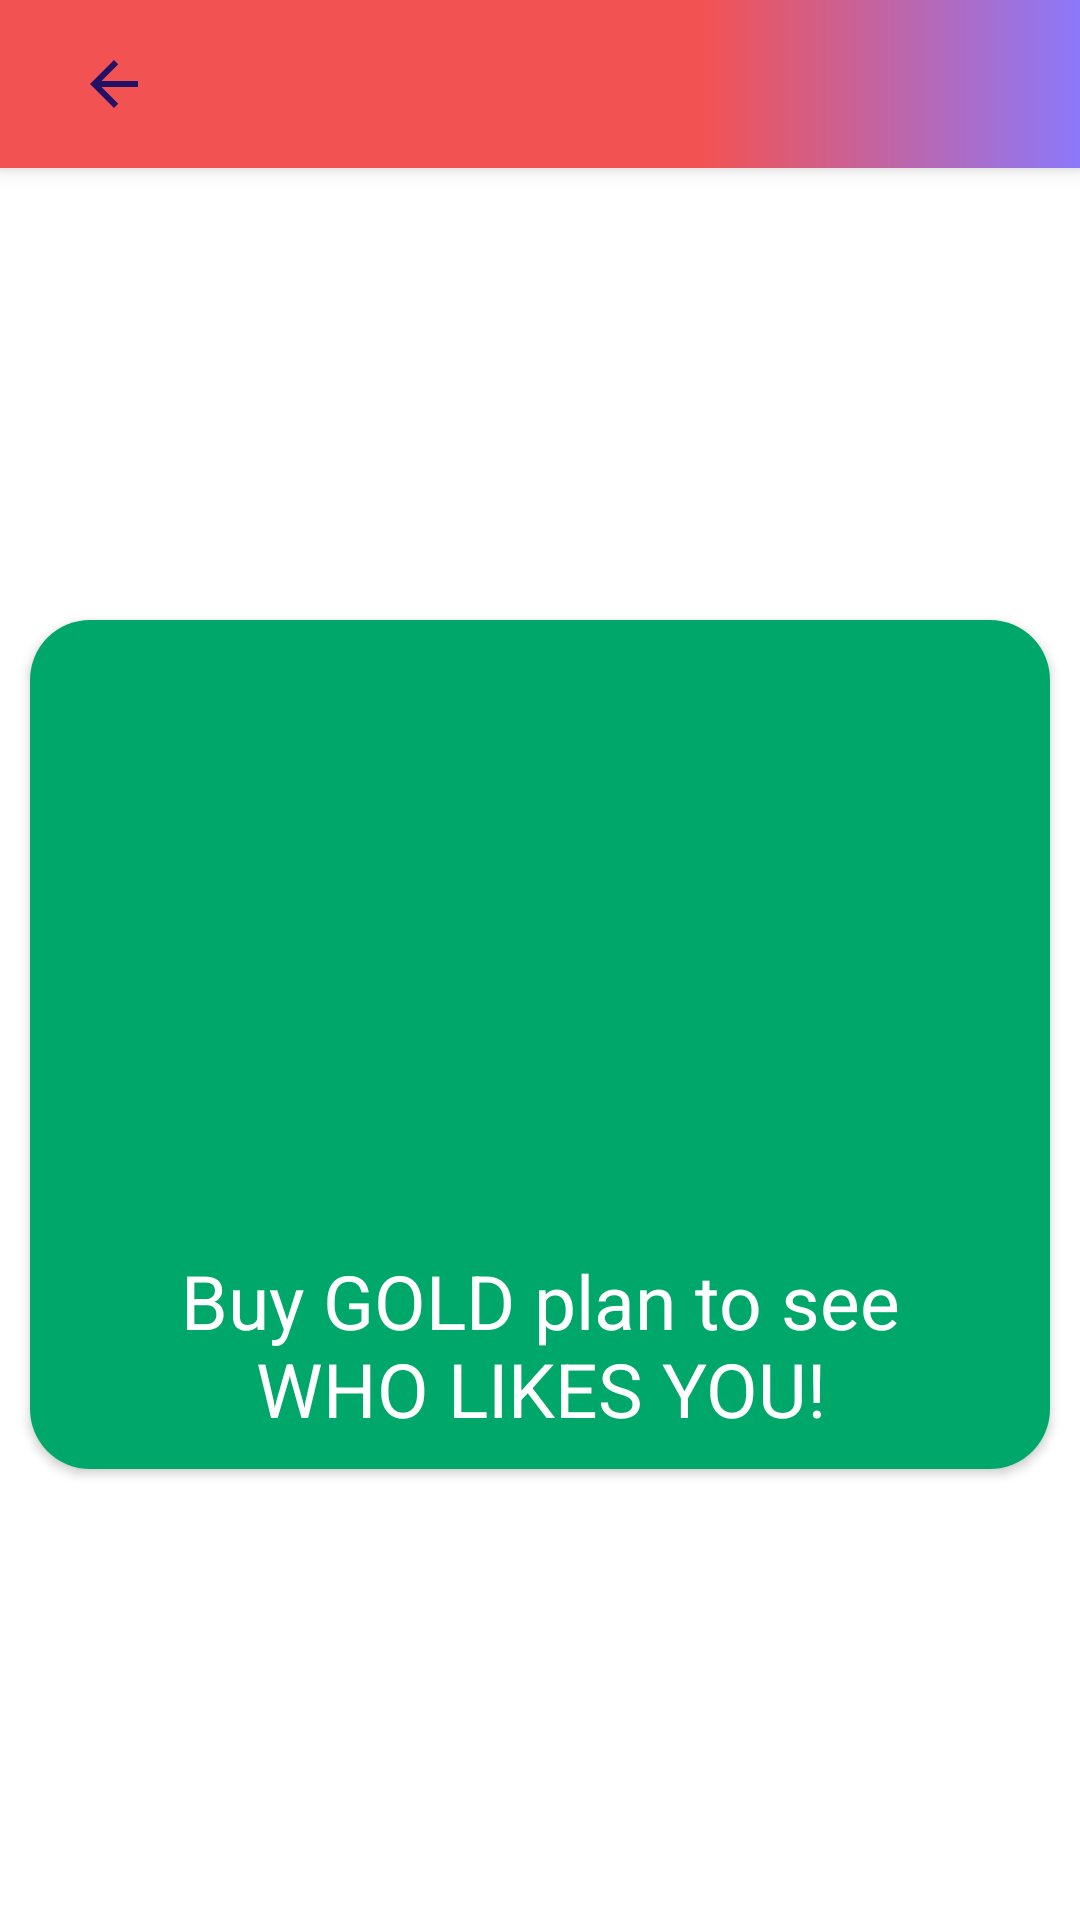

Where icons sit on this 1080x1920 app screen, as (x1, y1, x2, y2):
arrow back: (90, 60, 138, 108)
